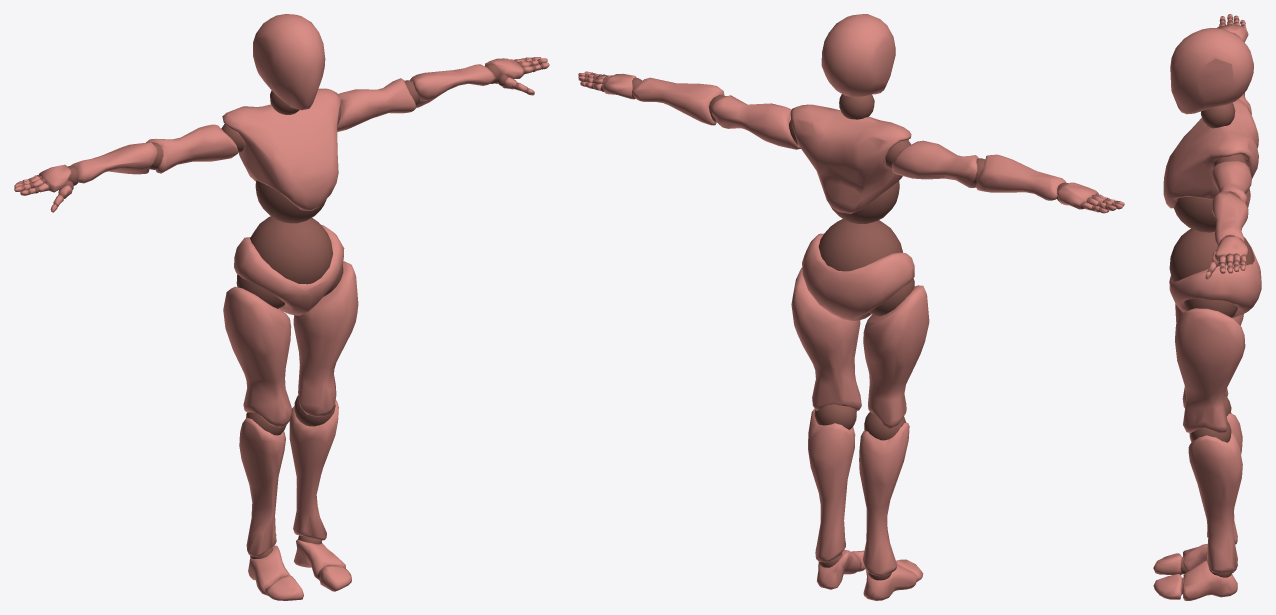
File: xbot_noarm.fbx
3 renders of one model, left to right at view 1: azimuth 30°, elevation 25°; view 2: azimuth 150°, elevation 25°; view 3: azimuth 270°, elevation 25°, orthographic. The views are drawn at different scales.
Parts seen in each view (by area): view 1: Beta_Surface, Beta_Joints; view 2: Beta_Surface, Beta_Joints; view 3: Beta_Surface, Beta_Joints.
Part boxes in pixels (box(x1,y1,x2,y2)): Beta_Surface: box(14, 14, 549, 600); Beta_Joints: box(21, 57, 543, 580); Beta_Surface: box(578, 14, 1124, 600); Beta_Joints: box(584, 72, 1117, 580); Beta_Surface: box(1153, 14, 1261, 600); Beta_Joints: box(1169, 16, 1254, 594).
Size of the model in its own units: 200 by 200 by 35.57.
